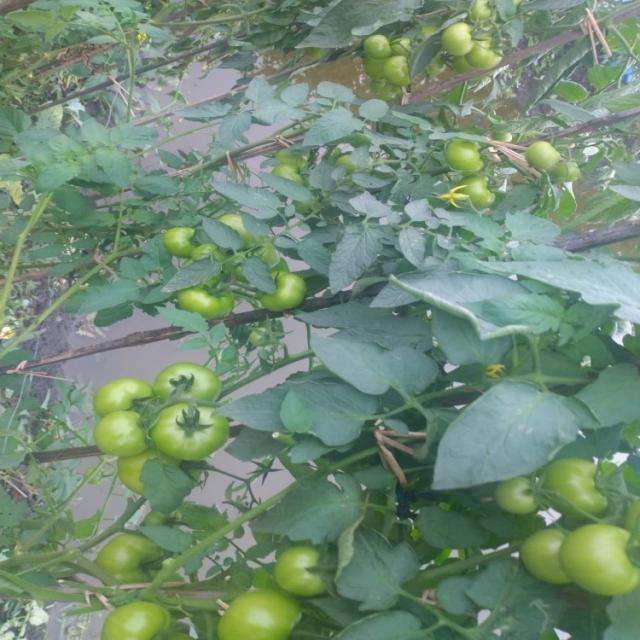tomato: (199, 583, 322, 640), (559, 516, 640, 594), (151, 398, 235, 471), (542, 452, 613, 526), (97, 590, 199, 640), (271, 533, 334, 604), (95, 529, 162, 580), (486, 476, 553, 524), (523, 526, 573, 590), (177, 283, 244, 325), (93, 376, 157, 415), (156, 364, 219, 403), (95, 410, 148, 452), (266, 268, 312, 316), (436, 17, 481, 58), (542, 147, 585, 189), (441, 133, 477, 171), (472, 38, 509, 71), (520, 133, 548, 175), (358, 31, 397, 61), (464, 1, 504, 29), (385, 50, 417, 83), (161, 224, 195, 249), (465, 179, 490, 208)
